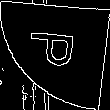P_E: (25, 33, 85, 77)
